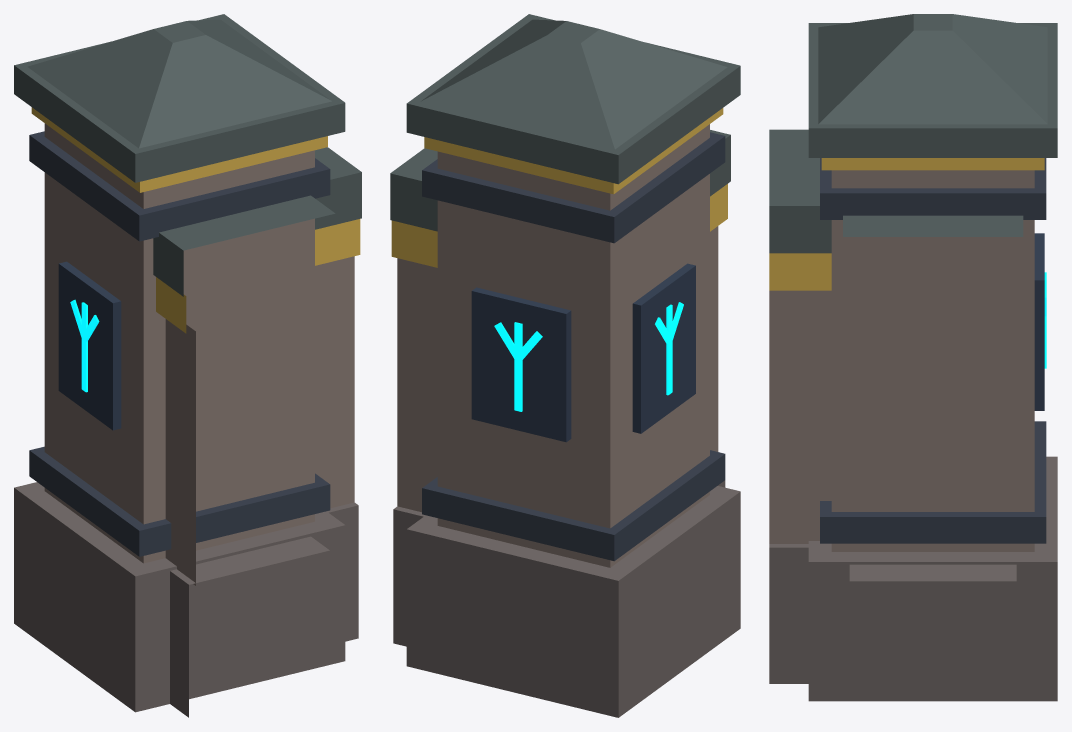
Rendered from stone_wall_corner_low.glb.
The picture shows the model from 3 angles, left to right: view 1: azimuth 30°, elevation 25°; view 2: azimuth 150°, elevation 25°; view 3: azimuth 270°, elevation 25°; orthographic projection. The views are drawn at different scales.
Visible parts, largest first — view 1: body, glow_runes; view 2: body, glow_runes; view 3: body.
Boxes of the visible parts, x1,y1,x2,y2 form: body: [14, 14, 361, 717]; glow_runes: [70, 299, 99, 392]; body: [390, 14, 740, 717]; glow_runes: [494, 302, 683, 411]; body: [769, 14, 1057, 701].
Bounding box in the file's own units: 0.88 × 2.11 × 0.88.
